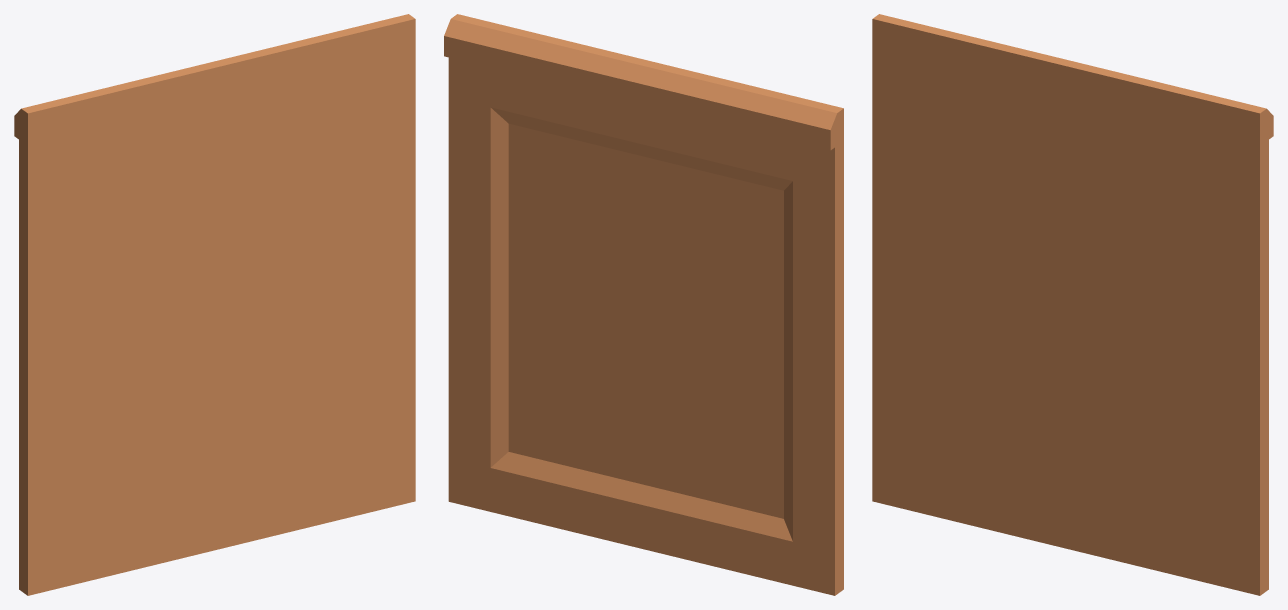
Rendered from Wall_Paneling.glb.
3 renders of one model, left to right at view 1: azimuth 30°, elevation 25°; view 2: azimuth 150°, elevation 25°; view 3: azimuth 330°, elevation 25°, orthographic.
Visible parts, largest first — view 1: paneling; view 2: paneling; view 3: paneling.
Boxes of the visible parts, x1,y1,x2,y2 form: paneling: (14,14,415,595); paneling: (444,14,843,595); paneling: (872,14,1273,595).
Size of the model in its own units: 0.5 by 0.5948 by 0.03.
